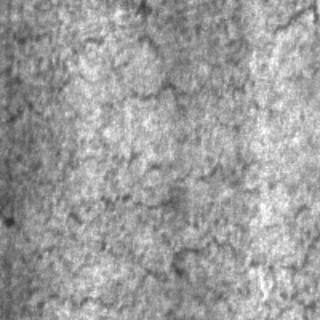crazing: (1, 167, 316, 309), (0, 30, 242, 120)
